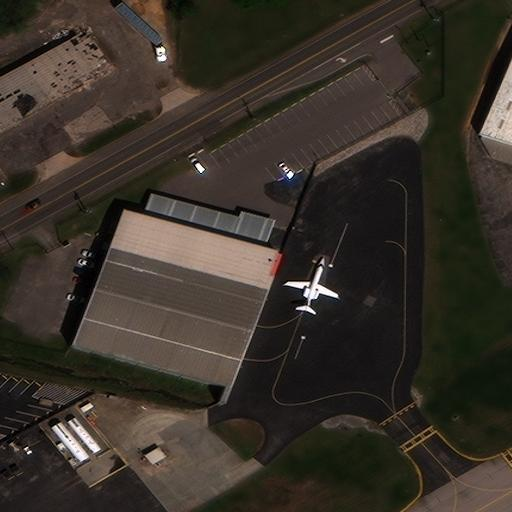Small Civil Transport: (285, 256, 338, 312)
